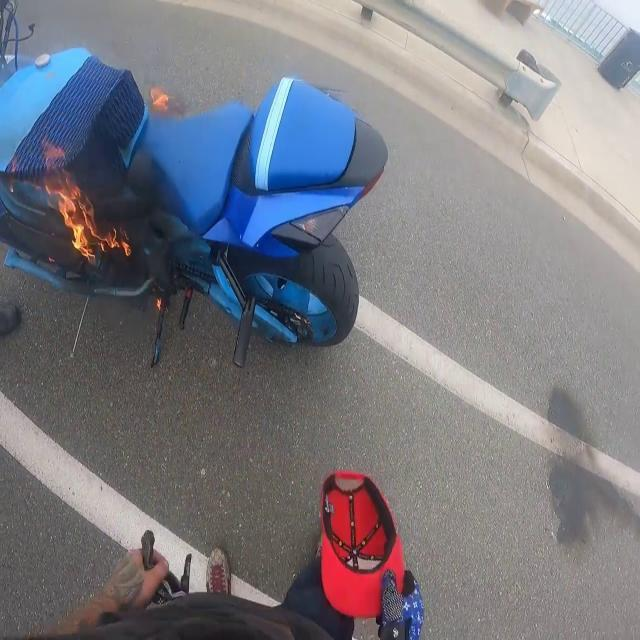Fire: (51, 175, 128, 261)
